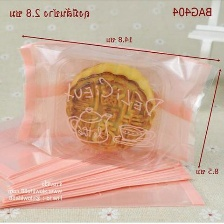snack: (9, 32, 224, 171)
